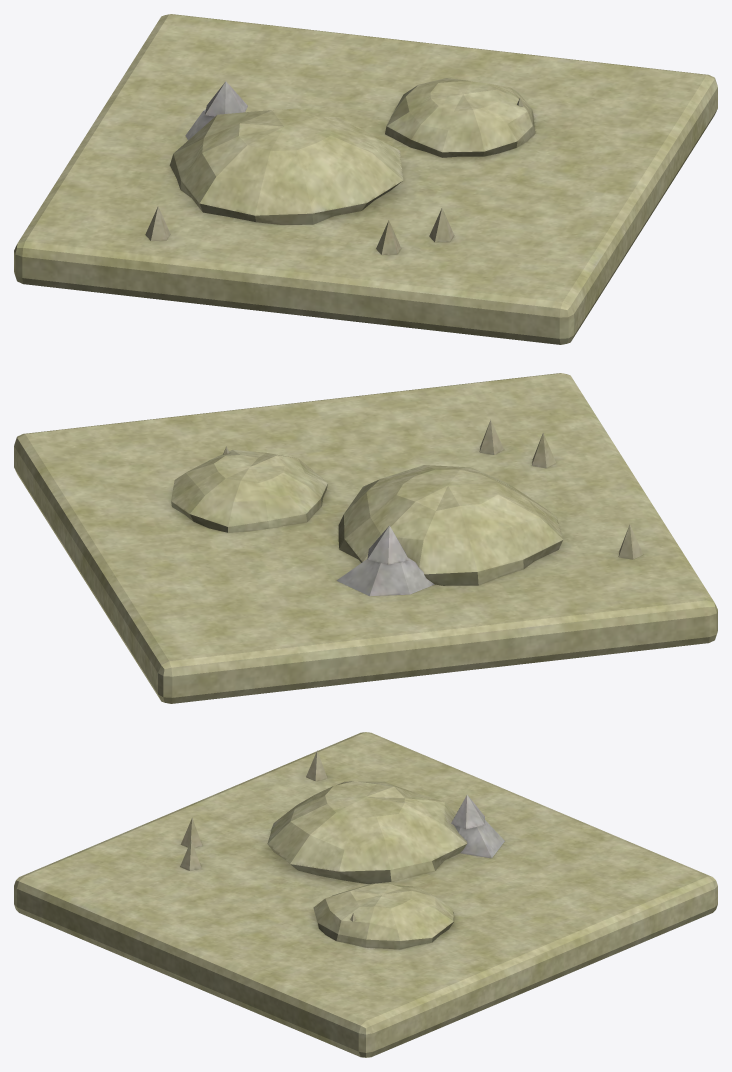
File: sarn_hills.glb
The picture shows the model from 3 angles, top to bottom: view 1: azimuth 30°, elevation 25°; view 2: azimuth 150°, elevation 25°; view 3: azimuth 270°, elevation 25°; orthographic projection. The views are drawn at different scales.
Parts seen in each view (by area): view 1: dilek; view 2: dilek; view 3: dilek.
Part boxes in pixels (x1=…): dilek: x1=14, y1=14, x2=717, y2=344; dilek: x1=14, y1=373, x2=717, y2=703; dilek: x1=14, y1=732, x2=717, y2=1057.
Bounding box in the file's own units: 2.42 × 0.35 × 2.42.
1 material, 1 textured.
